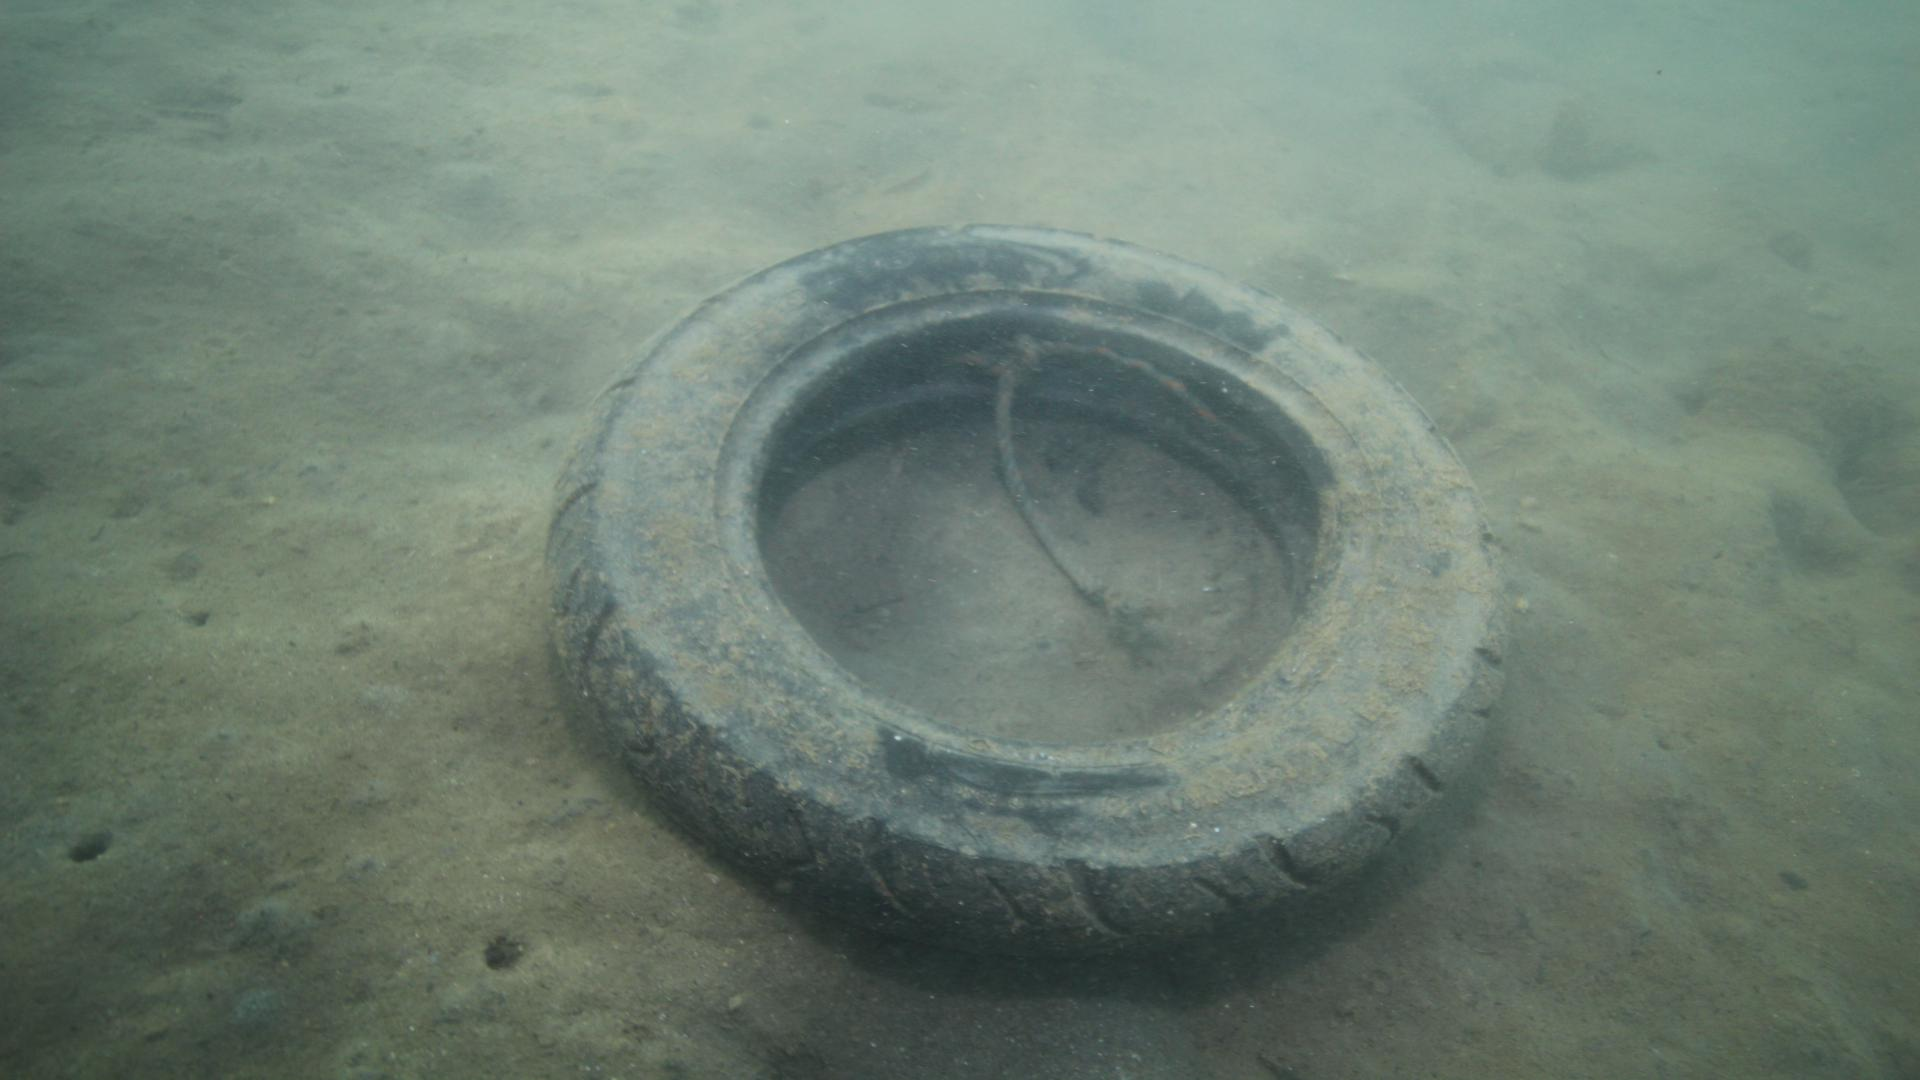rope: (990, 328, 1104, 597)
tire: (537, 219, 1513, 971)
